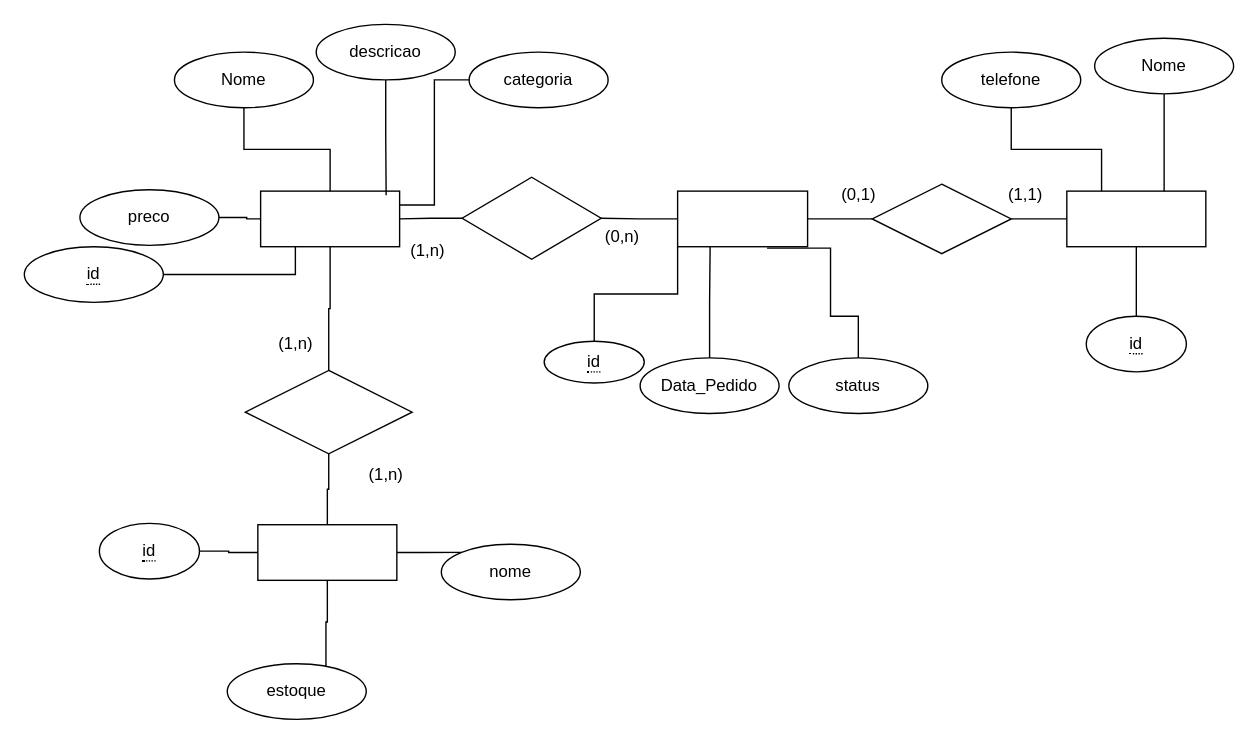
This 1258x744 diagram has some shape labels left out. Each missing label, with the box of its shape:
Cliente: (1065, 190, 1206, 247)
Ingrediente: (256, 523, 397, 580)
Pedido: (676, 190, 808, 247)
Prato: (259, 190, 400, 247)
